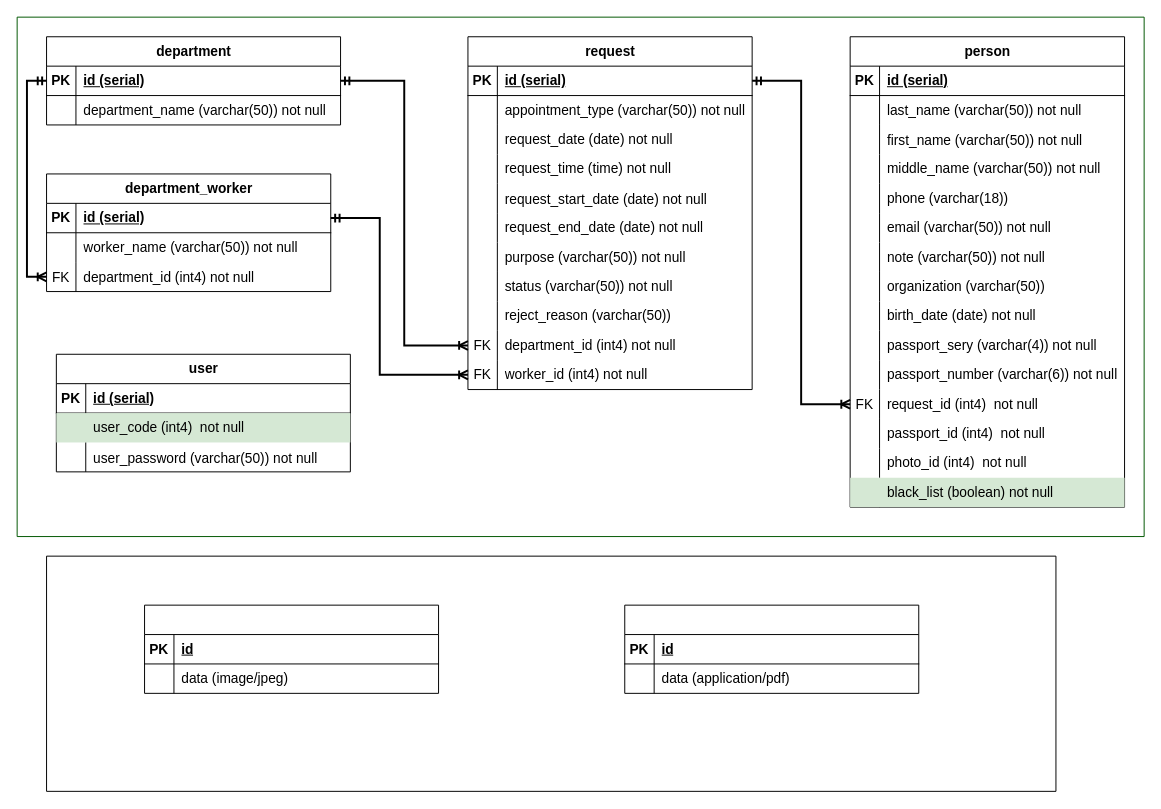
Image size: 1161x809. Some labels were removed from this diagram. Here are the shapes that lost their labels. From the top down, the box of each, then its label:
(144, 604, 439, 693): photo
(624, 604, 919, 693): passport_pdf
